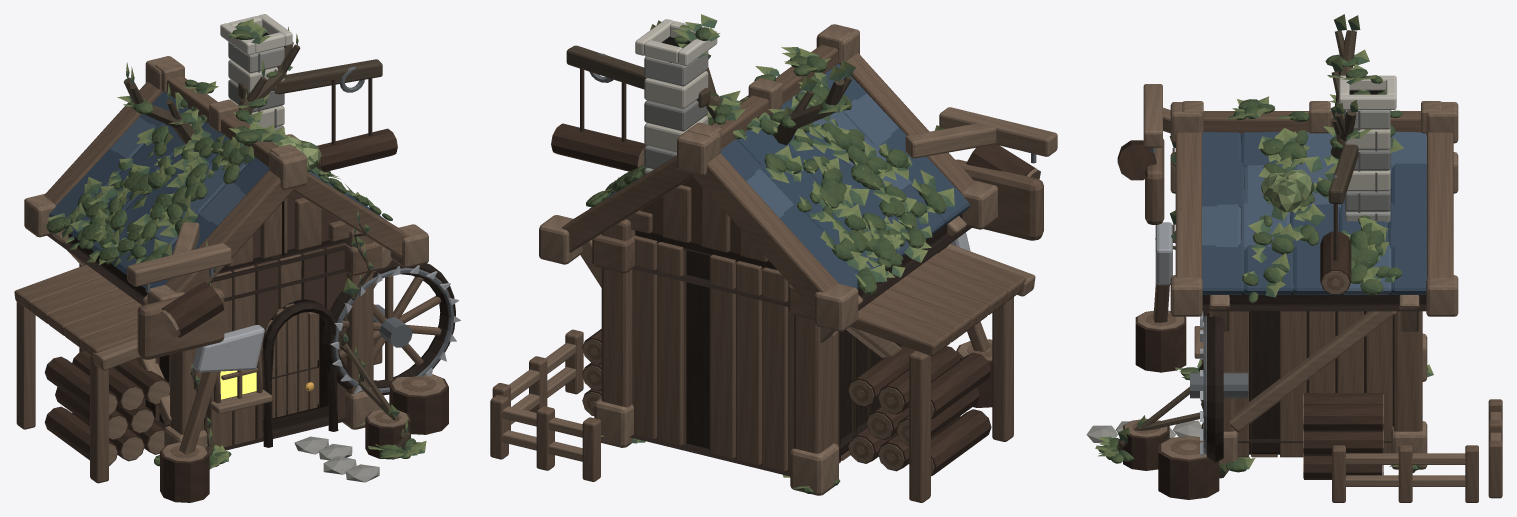
Rendered from woodcutter_hut.glb.
The picture shows the model from 3 angles, left to right: view 1: azimuth 30°, elevation 25°; view 2: azimuth 150°, elevation 25°; view 3: azimuth 270°, elevation 25°; orthographic projection. The views are drawn at different scales.
Visible parts, largest first — view 1: Quality clustered moss cushion, Quality clustered curved ivy leaf, Carved roof verge, Woodcutter hanging log sign, Carved roof verge.002, Woodland great lumber saw wheel, Heavy doorway frame, Carved roof verge.001, Corner upright.002, Log sign bracket, Lean-to upright.001, Hero axe broad blade (+70 smaller); view 2: Quality clustered moss cushion, Quality clustered curved ivy leaf, Cottage walls, Carved roof verge.001, Wall timber board.011, Wall timber board.007, Wall timber board.005, Wall timber board.003, Wall timber board.013, Corner upright.001, Corner upright.003, Carved roof verge.003 (+65 smaller); view 3: Quality clustered moss cushion, Quality clustered curved ivy leaf, Cottage walls, Carved roof verge.003, Carved roof verge.002, Side wall diagonal.001, Roof eave.001, Side timber board.005, Corner upright.003, Log bark.016, Ridge timber, Side timber board.011 (+65 smaller).
Boxes of the visible parts, x1,y1,x2,y2 form: Quality clustered moss cushion: (46,22,420,467); Quality clustered curved ivy leaf: (47,18,426,469); Carved roof verge: (165,170,293,293); Woodcutter hanging log sign: (137,288,224,359); Carved roof verge.002: (293,172,408,257); Woodland great lumber saw wheel: (322,260,455,395); Heavy doorway frame: (263,301,338,447); Carved roof verge.001: (44,81,161,205); Corner upright.002: (344,229,373,394); Log sign bracket: (127,243,231,286); Lean-to upright.001: (16,302,35,429); Hero axe broad blade: (192,325,264,372); Quality clustered moss cushion: (586,27,945,493); Quality clustered curved ivy leaf: (588,14,954,489); Cottage walls: (635,230,899,455); Carved roof verge.001: (692,153,838,310); Wall timber board.011: (657,242,683,445); Wall timber board.007: (709,254,736,458); Wall timber board.005: (736,261,762,464); Wall timber board.003: (762,267,788,470); Wall timber board.013: (632,235,657,438); Corner upright.001: (794,315,832,453); Corner upright.003: (601,219,635,407); Carved roof verge.003: (561,155,693,252); Quality clustered moss cushion: (1098,54,1428,472); Quality clustered curved ivy leaf: (1095,14,1433,474); Cottage walls: (1249,311,1393,454); Carved roof verge.003: (1427,132,1453,278); Carved roof verge.002: (1175,132,1201,278); Side wall diagonal.001: (1228,311,1396,431); Roof eave.001: (1202,293,1426,311); Side timber board.005: (1280,311,1306,457); Corner upright.003: (1394,311,1422,431); Log bark.016: (1158,435,1219,499); Ridge timber: (1203,111,1420,133); Side timber board.011: (1366,311,1392,453).
Bounding box in the file's own units: 4.4 × 4.18 × 4.22.
Materials: 25 (8 with a texture image).
